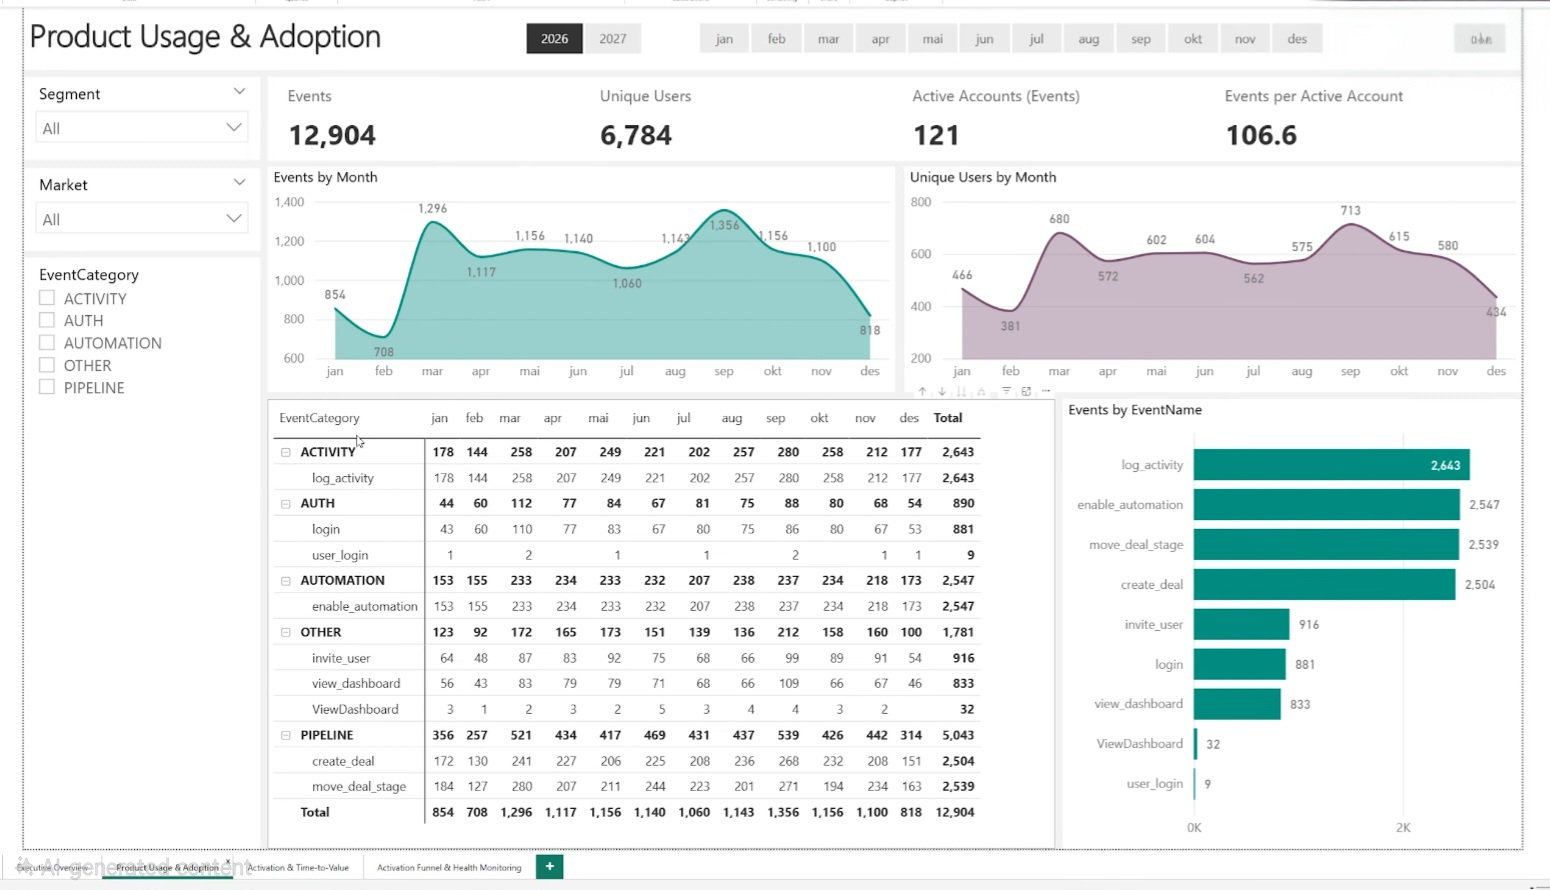

The page's visual inventory and layout, read from the dashboard file:
{"tool":"powerbi","page":{"name":"Page 1","canvas":[1280,720],"ordinal":0},"visuals":[{"type":"textbox","box":[5.1,0,1156.1,46.9],"z":0},{"type":"slicer","fields":{"Values":["dim_date.Year"]},"box":[251,4.1,180.6,42.9],"z":1000},{"type":"slicer","fields":{"Values":["dim_date.Month Short"]},"box":[439.2,0,645.9,43.2],"z":2000},{"type":"slicer","fields":{"Values":["dim_accounts.Segment"]},"box":[0,58.8,164.7,74.1],"z":3000},{"type":"cardVisual","fields":{"Data":["_Measures.Total Accounts","_Measures.Events","_Measures.Unique Users (Events)","_Measures.Deals Created"]},"box":[198.6,58.1,954.1,75.7],"z":4000},{"type":"slicer","fields":{"Values":["dim_geography.Market"]},"box":[0,157.6,165.9,168.2],"z":5000},{"type":"lineChart","fields":{"Y":["_Measures.Events"],"Category":["dim_date.Month Short"]},"box":[182.5,166.2,348.8,150],"z":6000},{"type":"lineChart","fields":{"Y":["_Measures.Unique Users (Events)"],"Category":["dim_date.Month Short"]},"box":[455,166.2,423.8,160],"z":7000},{"type":"lineChart","fields":{"Category":["dim_date.Month Short"],"Y":["_Measures.Deals Created"]},"box":[728.7,316.1,387.3,194.2],"z":8000}]}

Visuals, with their boxes on the page's 1280x720 design canvas (x1, y1, x2, y2). These are canvas units, not pixel positions in the 1550x890 screenshot, which may show the page scaled, cropped or inside an application window:
textbox: box(5, 0, 1161, 47)
slicer - dim_date.Year: box(251, 4, 432, 47)
slicer - dim_date.Month Short: box(439, 0, 1085, 43)
slicer - dim_accounts.Segment: box(0, 59, 165, 133)
cardVisual - _Measures.Total Accounts x _Measures.Events: box(199, 58, 1153, 134)
slicer - dim_geography.Market: box(0, 158, 166, 326)
lineChart - _Measures.Events x dim_date.Month Short: box(182, 166, 531, 316)
lineChart - _Measures.Unique Users (Events) x dim_date.Month Short: box(455, 166, 879, 326)
lineChart - dim_date.Month Short x _Measures.Deals Created: box(729, 316, 1116, 510)
